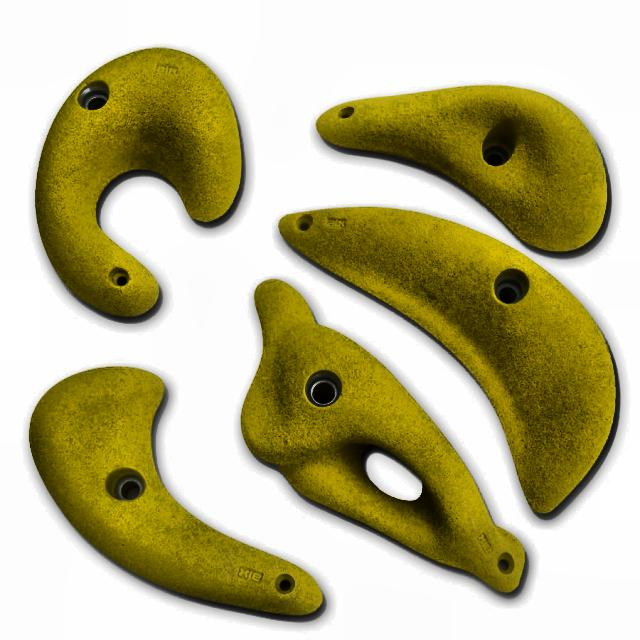Hold: (255, 188, 630, 540), (222, 259, 553, 622), (18, 346, 337, 632), (289, 70, 625, 278), (39, 47, 242, 329)
